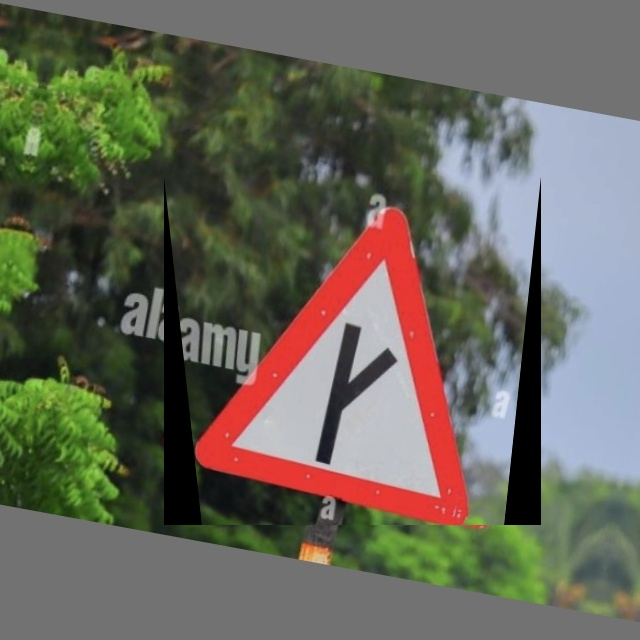Y_Intersection: (164, 176, 541, 525)
